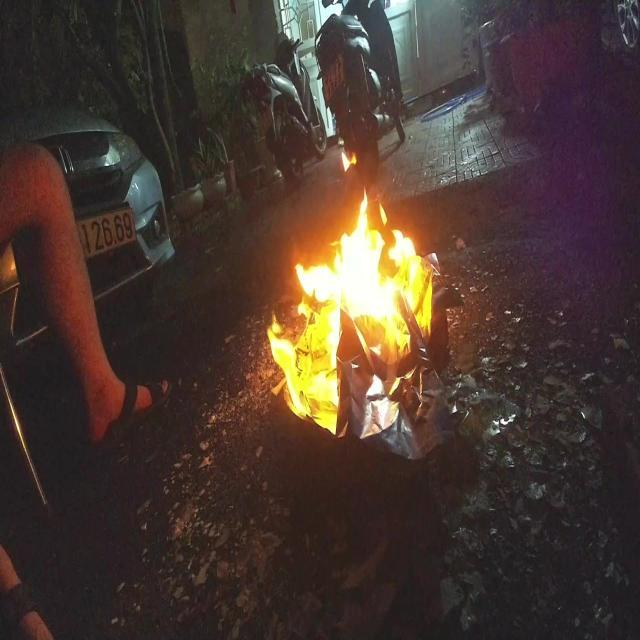Fire: (266, 145, 436, 437)
